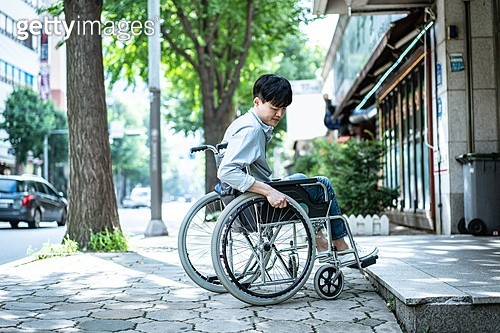wheelchair: (177, 73, 380, 304)
